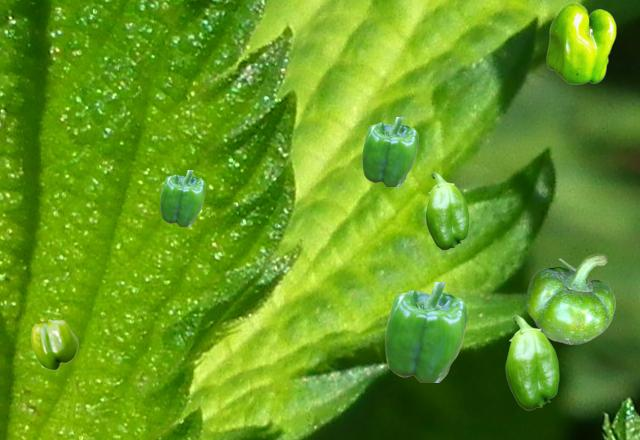bell_pepper: (385, 282, 466, 381), (526, 253, 614, 343), (546, 2, 615, 83), (505, 315, 558, 409), (362, 117, 417, 185), (425, 172, 468, 249), (160, 170, 204, 225), (31, 319, 77, 369)
